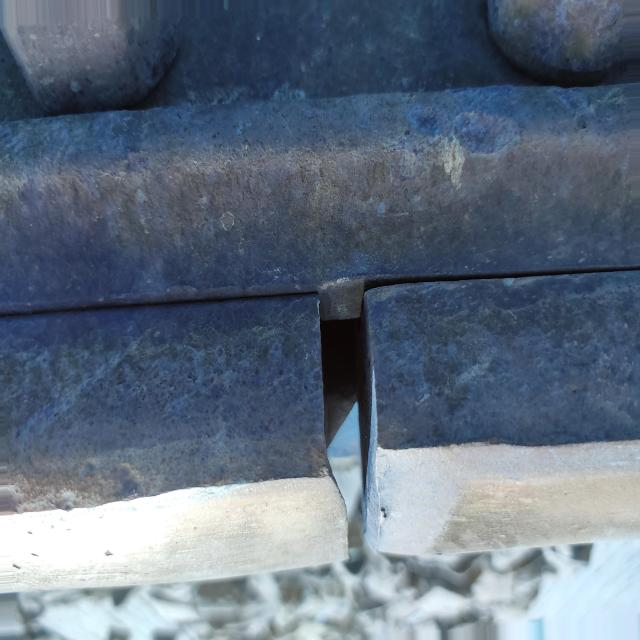crack: (272, 276, 443, 578)
